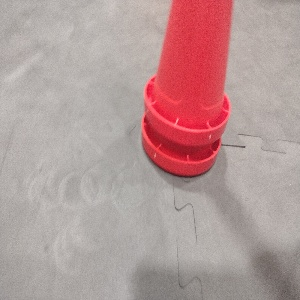Red_2: (141, 0, 232, 178)
